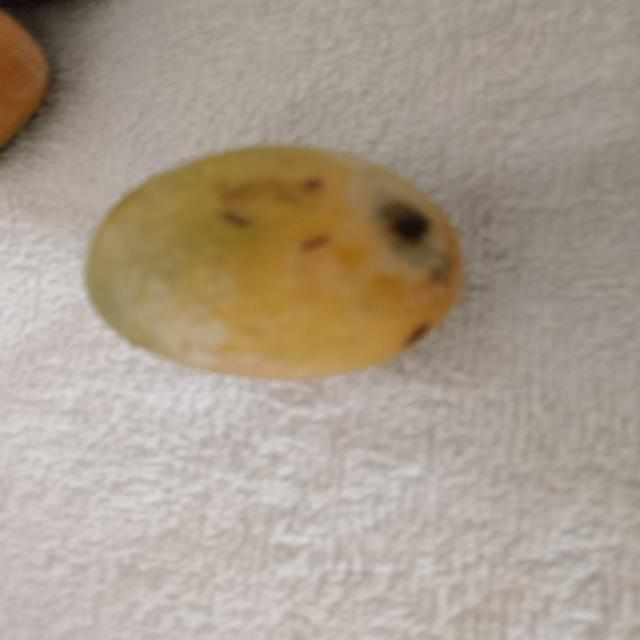mango: (88, 147, 462, 378)
